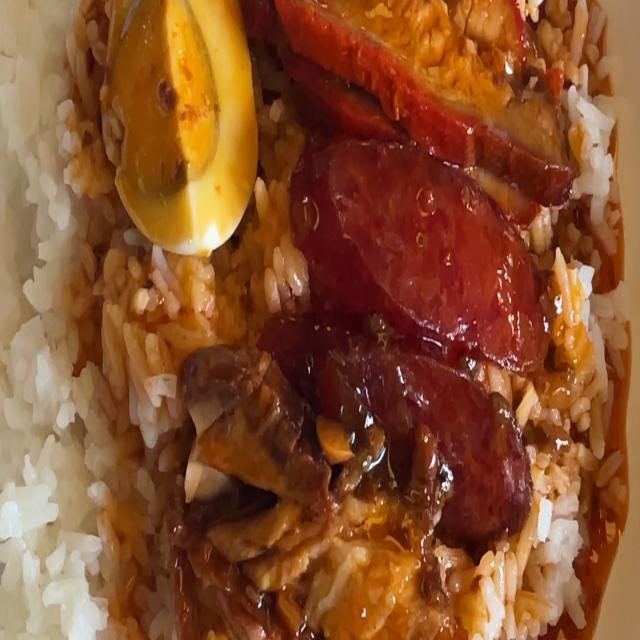01boiled_egg: (103, 0, 253, 241)
01chainese_sausage: (301, 152, 528, 484)
01crispy_pork: (292, 524, 471, 640)
01red_pork: (270, 0, 551, 179)
01red_pork_and_crispy_pork: (0, 0, 640, 640)
01rice: (23, 262, 175, 640), (13, 0, 108, 303), (542, 282, 608, 628)
